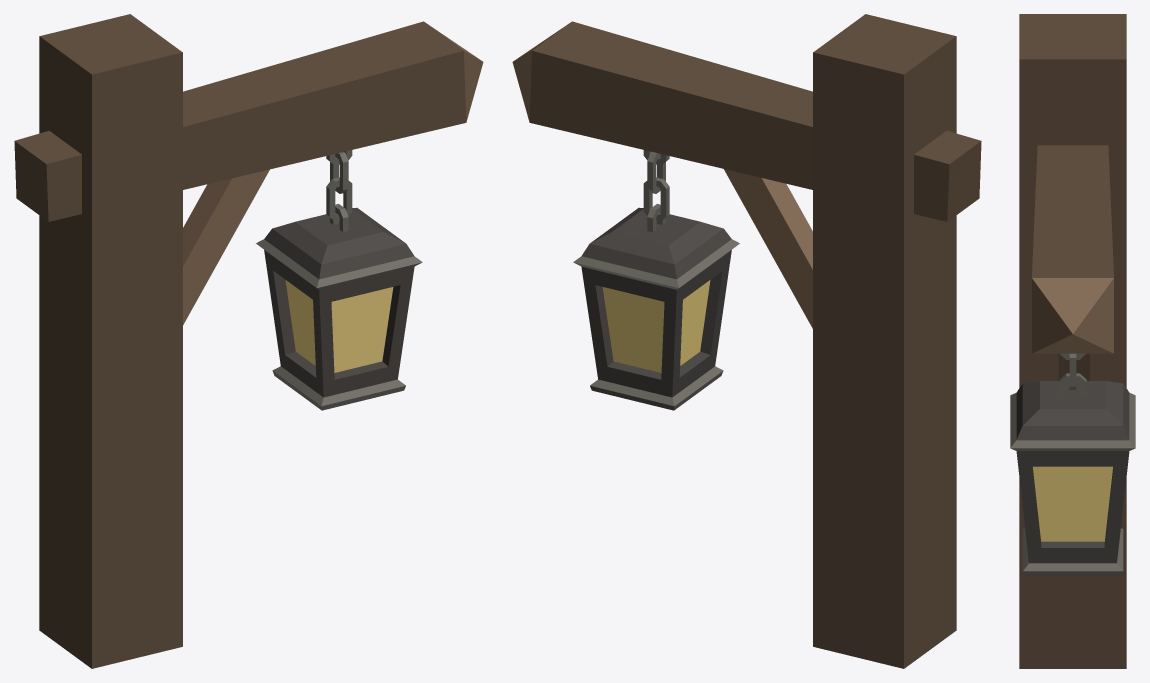
File: Prop_Lamp_Street.glb
3 renders of one model, left to right at view 1: azimuth 30°, elevation 25°; view 2: azimuth 150°, elevation 25°; view 3: azimuth 270°, elevation 25°, orthographic. The views are drawn at different scales.
Visible parts, largest first — view 1: Prop_Lamp_Street; view 2: Prop_Lamp_Street; view 3: Prop_Lamp_Street.
Boxes of the visible parts, x1,y1,x2,y2 form: Prop_Lamp_Street: (14, 14, 483, 668); Prop_Lamp_Street: (512, 14, 981, 668); Prop_Lamp_Street: (1010, 14, 1135, 668).
Bounding box in the file's own units: 0.9969 × 1.25 × 0.2333.
